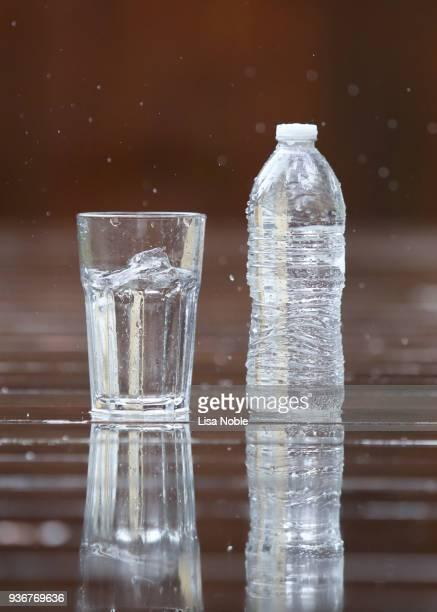bottle: (238, 106, 362, 454)
